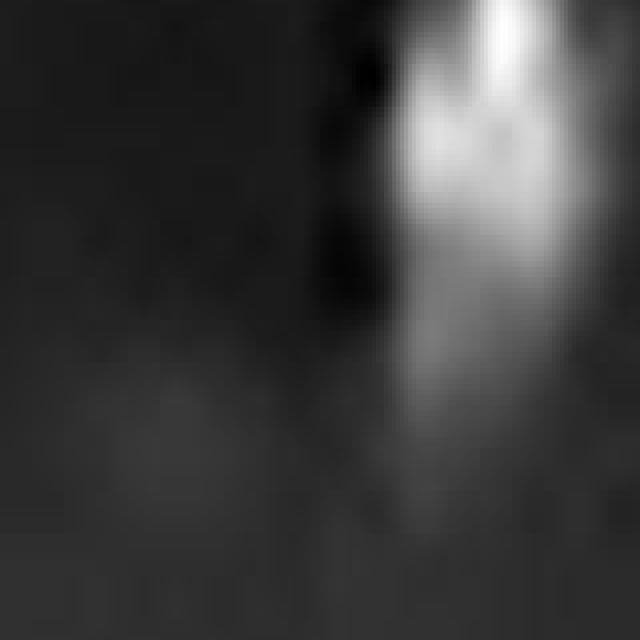person: (373, 1, 640, 481)
